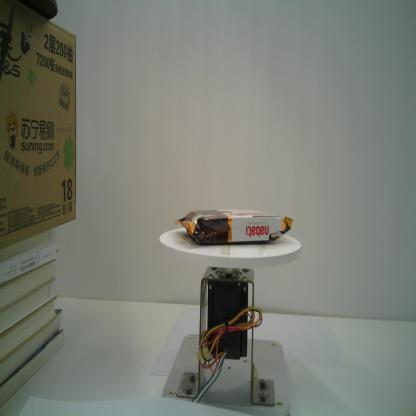Dessert: (171, 207, 294, 248)
